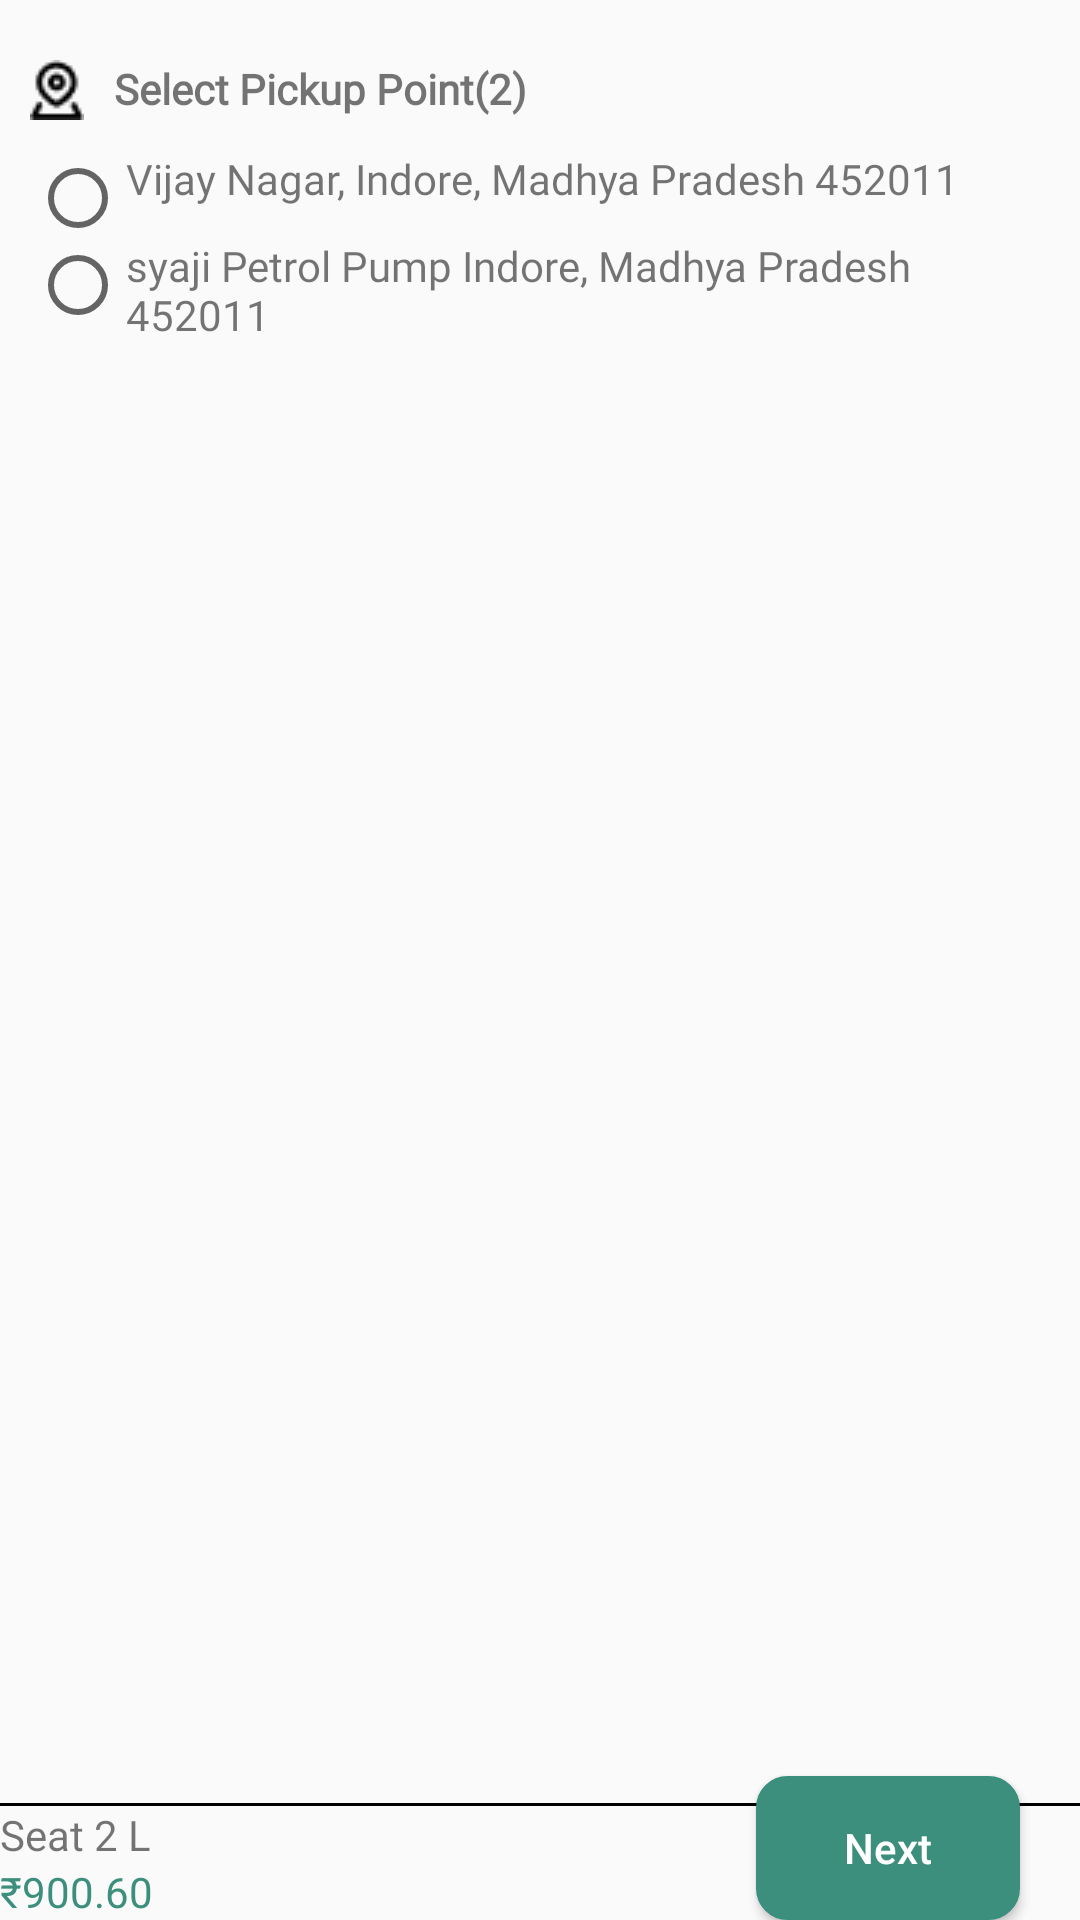

Point at icon controls on the screen. Image size 1080px x 1920px, points as point (x, y).
pickuplocation: point (57, 90)
